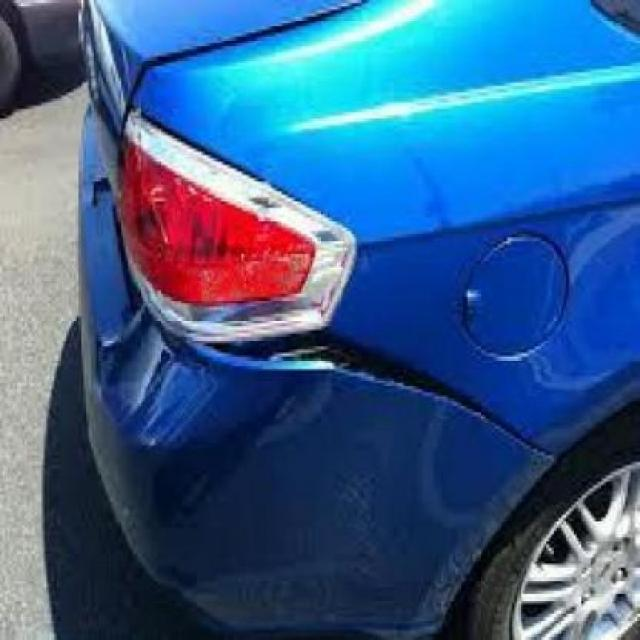damage: (167, 318, 566, 462)
